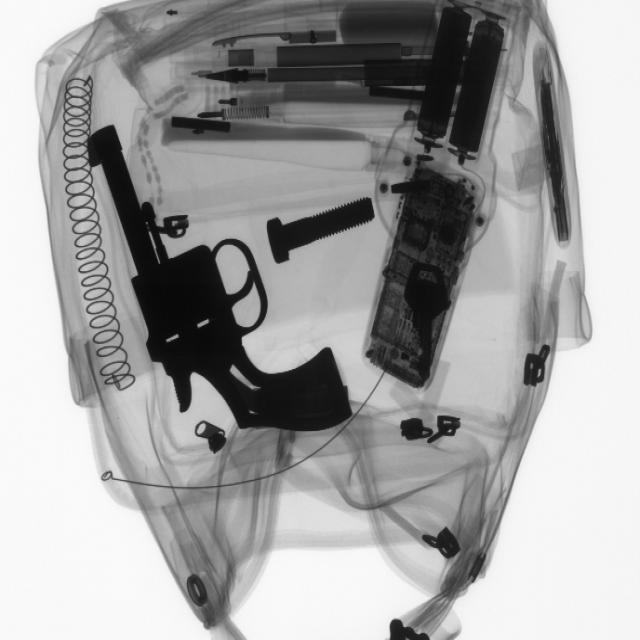GUN: (84, 130, 359, 438)
